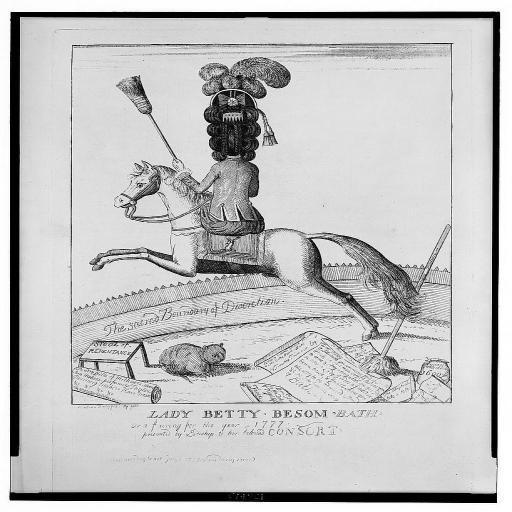horse: (90, 156, 418, 339)
